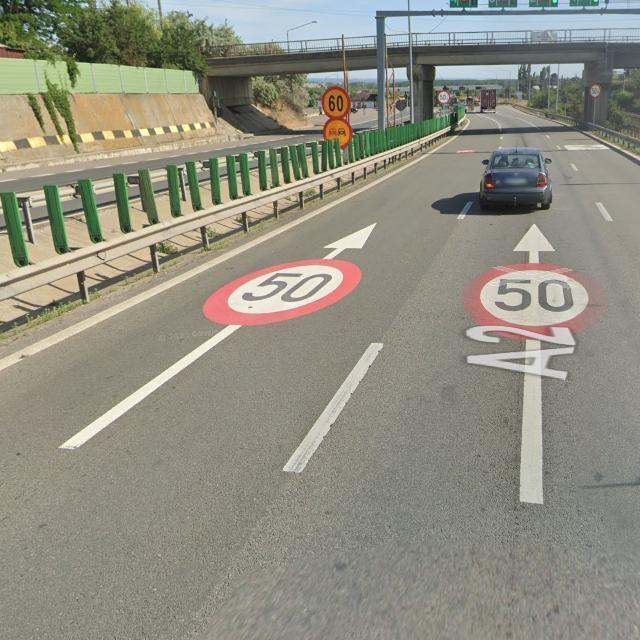forb_overtake: (323, 118, 353, 149)
forb_speed_over_50: (462, 262, 609, 340), (203, 259, 363, 326)
forb_speed_over_60: (321, 86, 351, 119)
